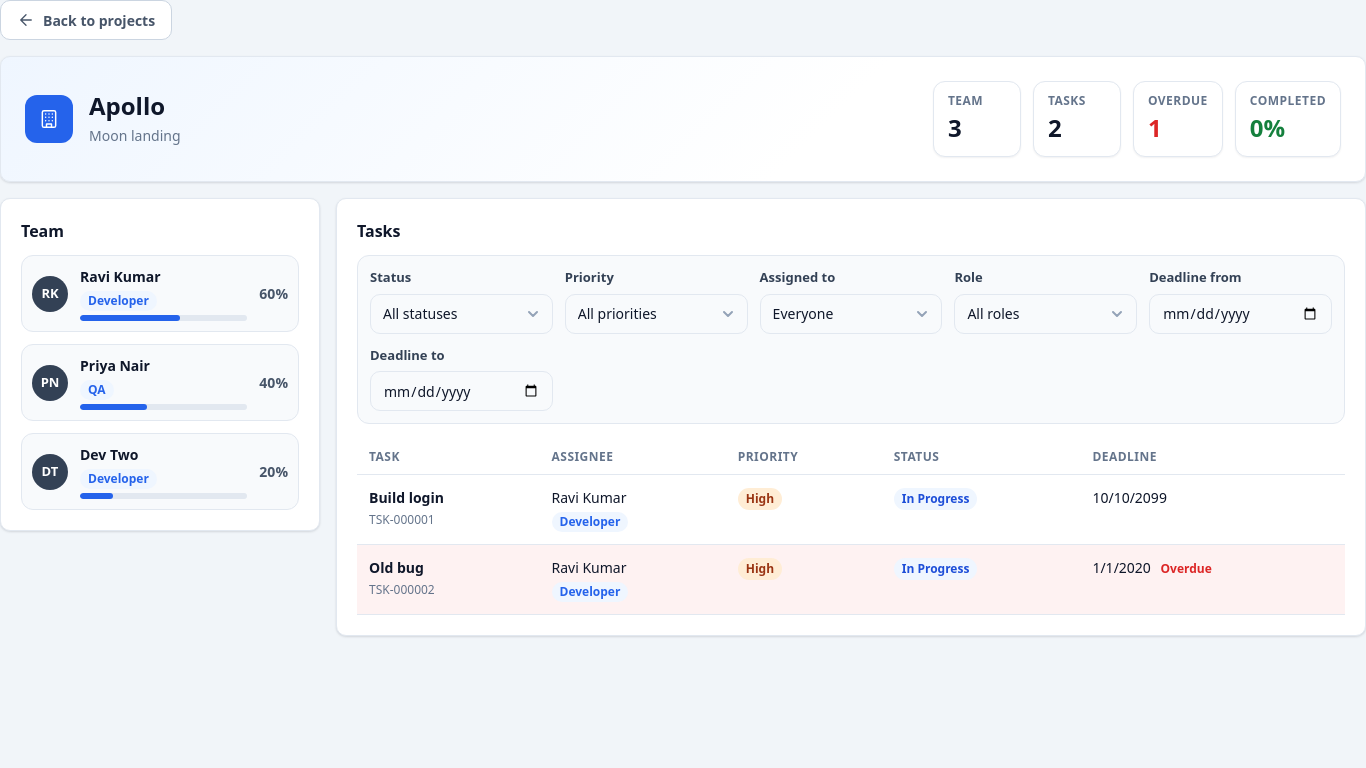
Test: ProjectDetailComponent › shows a no-match state with a way out when the filters match nothing
The image size is (1366, 768).
Select "Low" in the dropdown labelled "Priority" at (656, 314), box [565, 294, 748, 334]
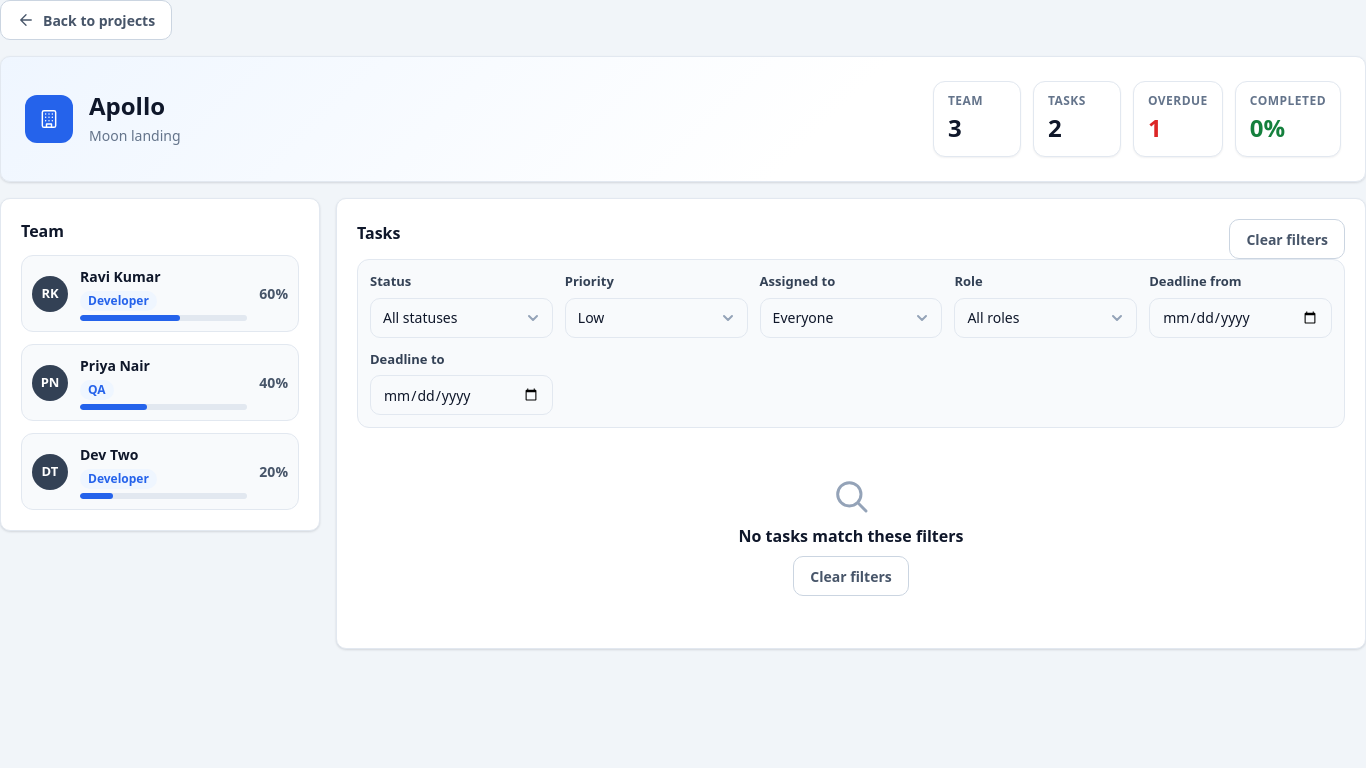
Now the element showing "No tasks match these filters Clear filters" is shown, box [738, 525, 963, 596]
